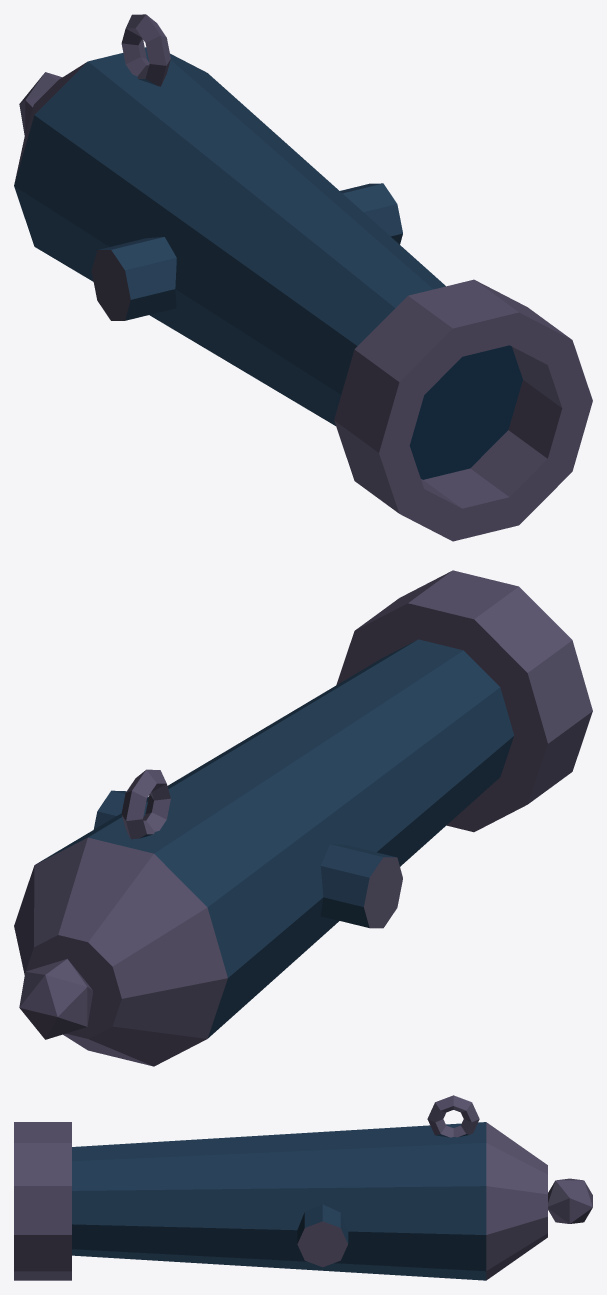
The model's file is barrel.glb.
The picture shows the model from 3 angles, top to bottom: view 1: azimuth 30°, elevation 25°; view 2: azimuth 150°, elevation 25°; view 3: azimuth 270°, elevation 25°; orthographic projection. The views are drawn at different scales.
Parts seen in each view (by area): view 1: Barrel; view 2: Barrel; view 3: Barrel.
Part boxes in pixels (bbox=[...]): Barrel: bbox=[14, 14, 592, 541]; Barrel: bbox=[14, 570, 592, 1066]; Barrel: bbox=[14, 1095, 592, 1280].
Size of the model in its own units: 0.56 by 0.5312 by 1.59.
